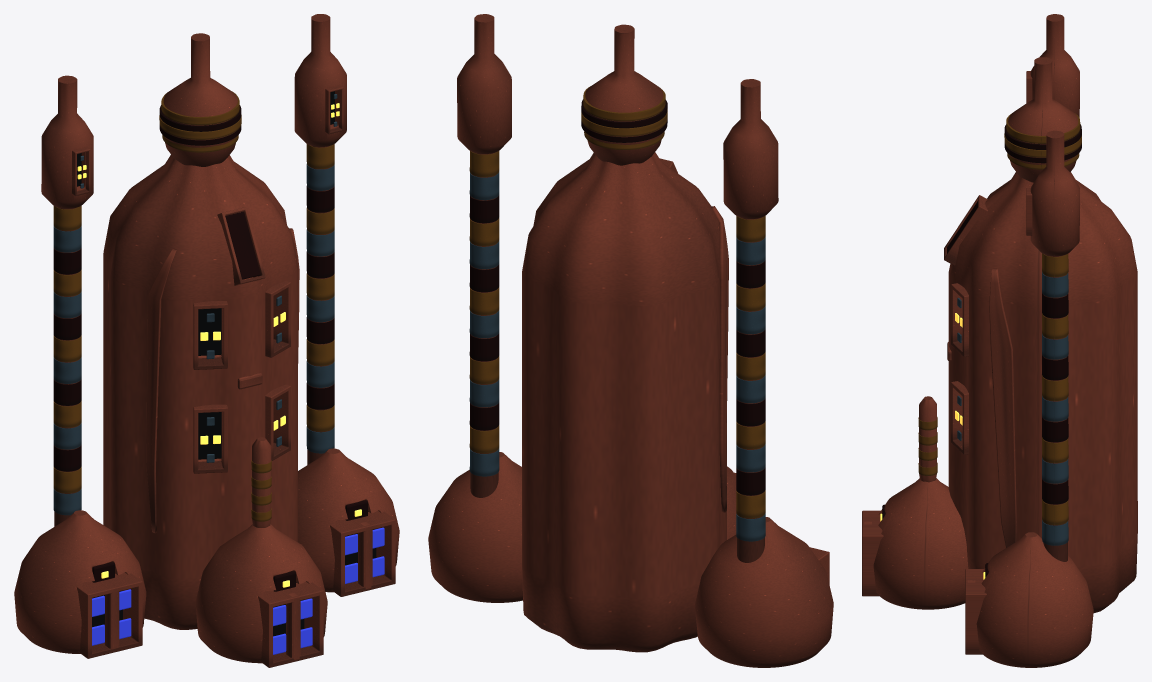
3 views of the same model, side by side, from view 1: azimuth 30°, elevation 25°; view 2: azimuth 150°, elevation 25°; view 3: azimuth 270°, elevation 25° (orthographic). The views are drawn at different scales.
Parts seen in each view (by area): view 1: AC08 central hall, AC08 consolidated tower bands, AC08 entrance pavilion 0, AC08 entrance pavilion 1, AC08 entrance pavilion 2, AC08 consolidated hall rims, AC08 tower upper chamber 1, AC08 tower upper chamber 0, AC08 central crown, AC08 left flowing casting, AC08 consolidated blue portal panes, AC08 portal rim 0 (+14 smaller); view 2: AC08 central hall, AC08 consolidated tower bands, AC08 entrance pavilion 0, AC08 entrance pavilion 2, AC08 tower upper chamber 0, AC08 tower upper chamber 1, AC08 central crown, AC08 left flowing casting, AC08 consolidated crown brass, AC08 consolidated crown red, AC08 tower shaft 1, AC08 tower shaft 0 (+1 smaller); view 3: AC08 central hall, AC08 entrance pavilion 2, AC08 entrance pavilion 1, AC08 consolidated tower bands, AC08 long right flowing casting, AC08 tower upper chamber 1, AC08 central crown, AC08 tower upper chamber 0, AC08 consolidated hall rims, AC08 portal rim 1, AC08 portal rim 2, AC08 consolidated crown brass (+5 smaller).
Part boxes in pixels (x1,y1,x2,y2): AC08 central hall: (103, 154, 297, 629); AC08 consolidated tower bands: (53, 144, 334, 515); AC08 entrance pavilion 0: (14, 510, 146, 653); AC08 entrance pavilion 1: (195, 524, 327, 663); AC08 entrance pavilion 2: (298, 448, 399, 592); AC08 consolidated hall rims: (193, 281, 290, 473); AC08 tower upper chamber 1: (294, 14, 346, 146); AC08 tower upper chamber 0: (41, 75, 93, 208); AC08 central crown: (163, 33, 237, 166); AC08 left flowing casting: (146, 248, 176, 533); AC08 consolidated blue portal panes: (92, 527, 384, 654); AC08 portal rim 0: (76, 572, 142, 658); AC08 central hall: (522, 152, 726, 652); AC08 consolidated tower bands: (469, 151, 765, 541); AC08 entrance pavilion 0: (694, 517, 833, 667); AC08 entrance pavilion 2: (428, 452, 522, 602); AC08 tower upper chamber 0: (723, 79, 778, 218); AC08 tower upper chamber 1: (457, 14, 511, 153); AC08 central crown: (585, 24, 663, 165); AC08 left flowing casting: (711, 206, 728, 512); AC08 consolidated crown brass: (581, 86, 667, 149); AC08 consolidated crown red: (581, 99, 667, 142); AC08 tower shaft 1: (470, 152, 498, 497); AC08 tower shaft 0: (737, 217, 764, 562); AC08 central hall: (948, 172, 1137, 612); AC08 entrance pavilion 2: (976, 532, 1093, 667); AC08 entrance pavilion 1: (873, 478, 968, 609); AC08 consolidated tower bands: (1042, 253, 1068, 545); AC08 long right flowing casting: (989, 268, 1016, 547); AC08 tower upper chamber 1: (1030, 130, 1079, 256); AC08 central crown: (1008, 57, 1078, 182); AC08 tower upper chamber 0: (1030, 14, 1079, 117); AC08 consolidated hall rims: (951, 283, 968, 454); AC08 portal rim 1: (862, 510, 883, 596); AC08 portal rim 2: (965, 569, 986, 654); AC08 consolidated crown brass: (1004, 113, 1081, 169).
Bounding box in the file's own units: 3.34 × 4.84 × 2.3.
7 materials, 5 textured.
